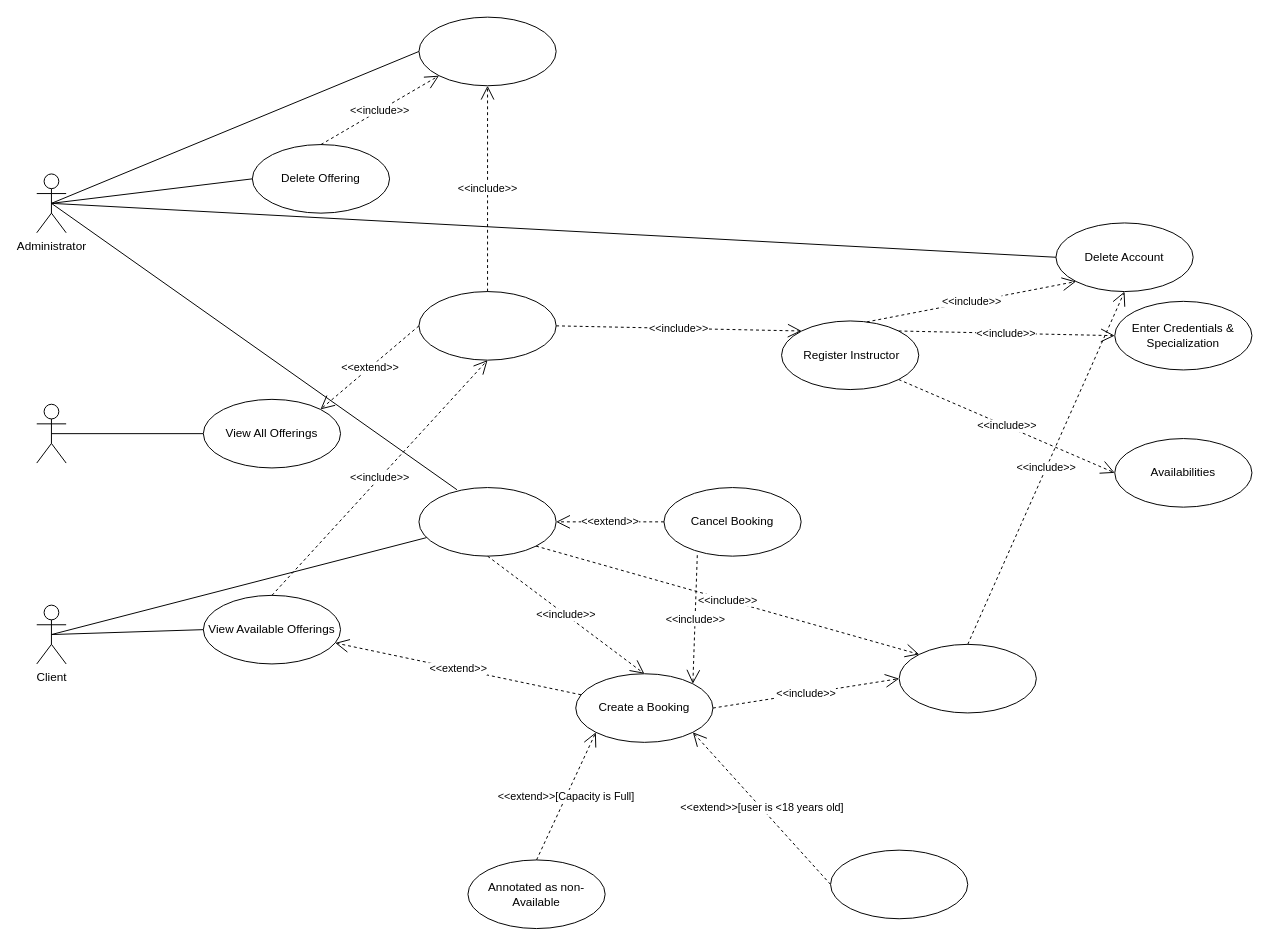
The diagram is 1269 pixels wide and 946 high, and some of its shapes have lost their labels. Here are the shapes that lost their labels. From the top down, the centre of each, then its label:
At [487,51]: "Create Offering".
At [487,325]: "Take On Offering As Instructor".
At [51,433]: "Instructor".
At [487,521]: "View Bookings".
At [967,678]: "Register Client".
At [899,884]: "Acquire Consent From Client's Parent".
